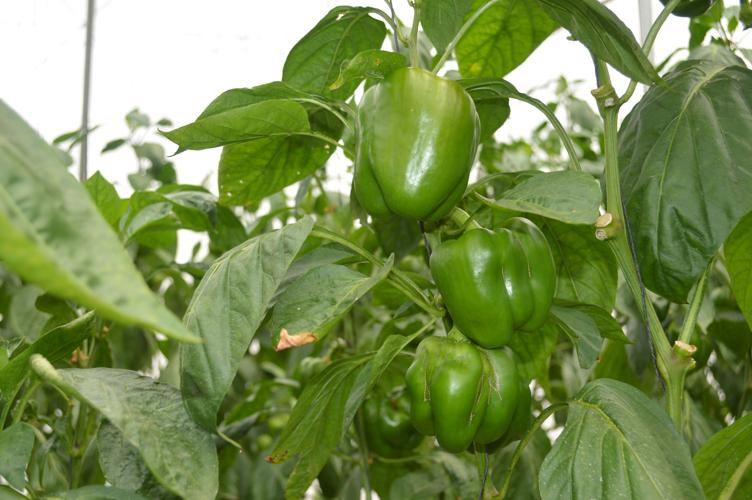BellPepper: (345, 69, 473, 216), (422, 222, 551, 340), (416, 344, 522, 447), (357, 391, 422, 457)
